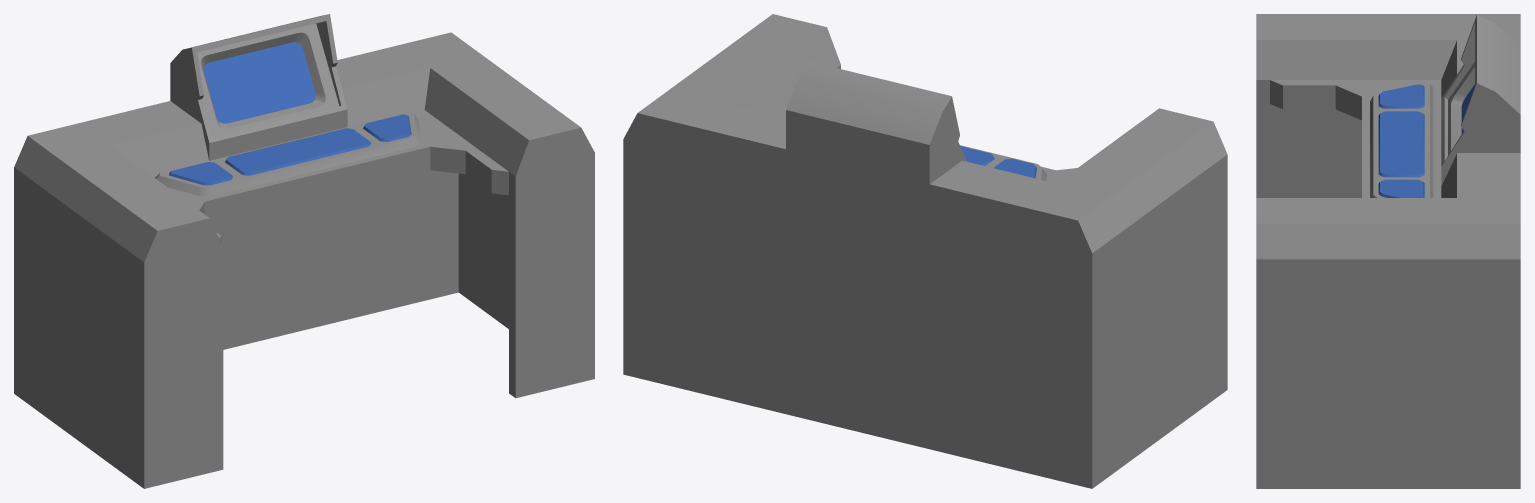
3 views of the same model, side by side, from view 1: azimuth 30°, elevation 25°; view 2: azimuth 150°, elevation 25°; view 3: azimuth 270°, elevation 25° (orthographic). The views are drawn at different scales.
Visible parts, largest first — view 1: meshId0_name, meshId1_name; view 2: meshId0_name, meshId1_name; view 3: meshId0_name, meshId1_name.
Boxes of the visible parts, bbox=[...] form: meshId0_name: bbox=[14, 14, 594, 488]; meshId1_name: bbox=[169, 42, 411, 185]; meshId0_name: bbox=[623, 14, 1227, 488]; meshId1_name: bbox=[960, 146, 1036, 178]; meshId0_name: bbox=[1256, 14, 1520, 488]; meshId1_name: bbox=[1378, 84, 1474, 197].
Bounding box in the file's own units: 100 × 68.62 × 50.
